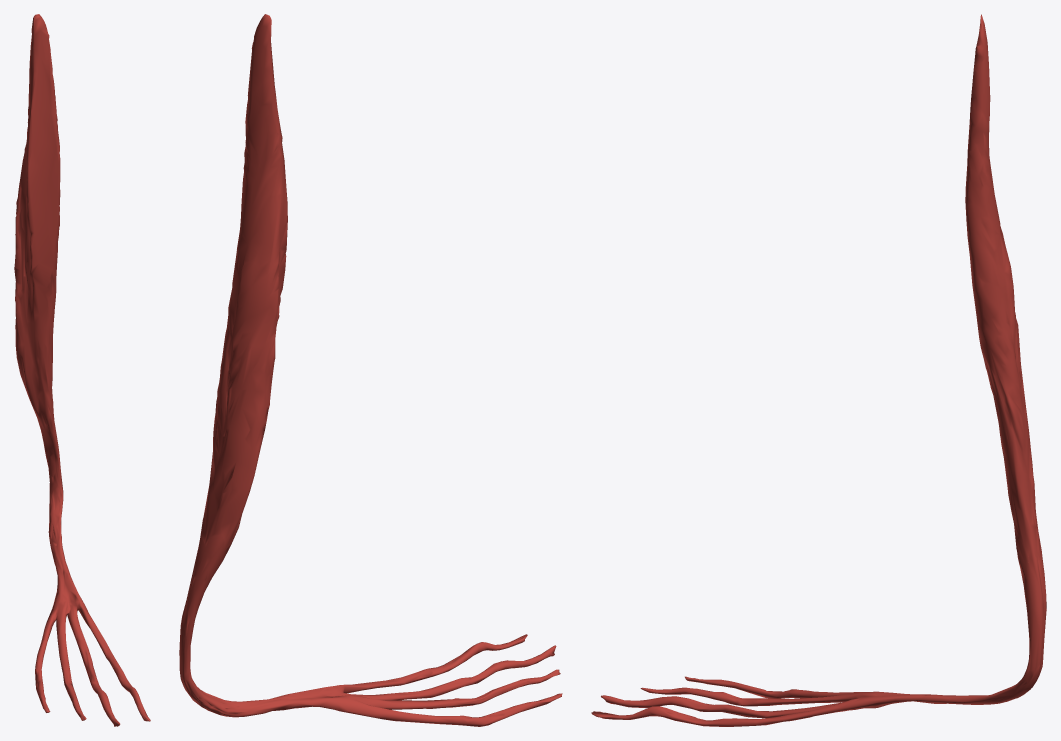
File: musculos-flexor-digitorum-longus-r.glb
The picture shows the model from 3 angles, left to right: view 1: azimuth 30°, elevation 25°; view 2: azimuth 150°, elevation 25°; view 3: azimuth 270°, elevation 25°; orthographic projection. The views are drawn at different scales.
Parts seen in each view (by area): view 1: Flexor digitorum longus.r; view 2: Flexor digitorum longus.r; view 3: Flexor digitorum longus.r.
Boxes of the visible parts, left/top/right/bottom form: Flexor digitorum longus.r: left=14, top=14, right=150, bottom=726; Flexor digitorum longus.r: left=179, top=14, right=562, bottom=726; Flexor digitorum longus.r: left=591, top=14, right=1046, bottom=726.
Bounding box in the file's own units: 0.0944 × 0.3436 × 0.1931.
